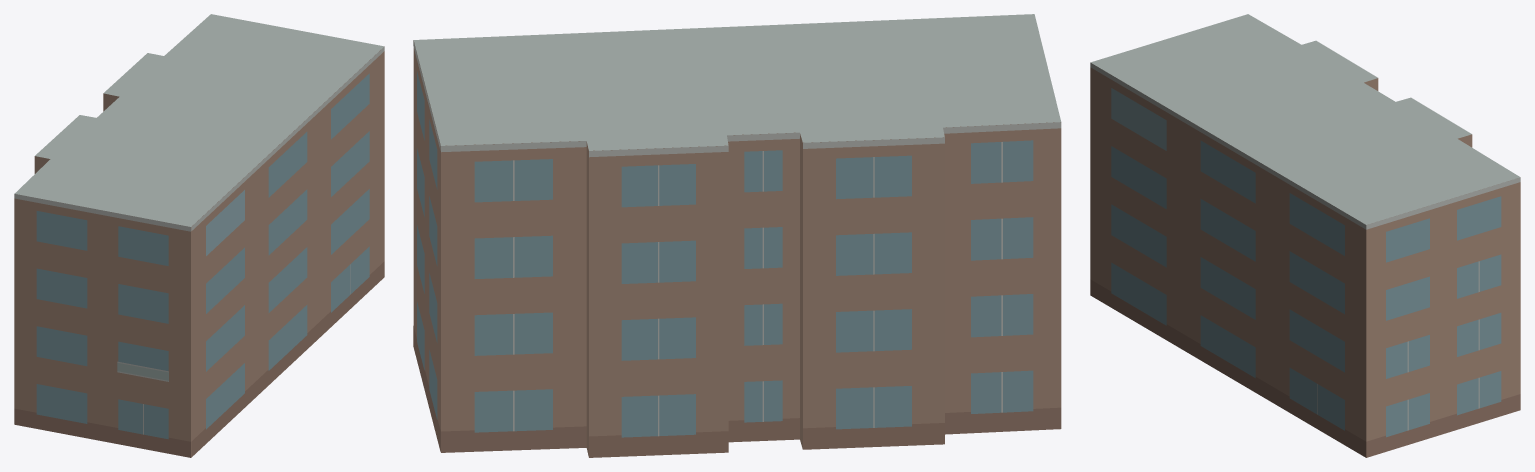
File: survey-upis-32665170.glb
The picture shows the model from 3 angles, left to right: view 1: azimuth 30°, elevation 25°; view 2: azimuth 150°, elevation 25°; view 3: azimuth 270°, elevation 25°; orthographic projection. The views are drawn at different scales.
Visible parts, largest first — view 1: survey-upis-32665170.tmp; view 2: survey-upis-32665170.tmp; view 3: survey-upis-32665170.tmp.
Part boxes in pixels (bbox=[...]): survey-upis-32665170.tmp: bbox=[14, 14, 384, 457]; survey-upis-32665170.tmp: bbox=[413, 14, 1061, 457]; survey-upis-32665170.tmp: bbox=[1090, 14, 1520, 457].
Size of the model in its own units: 23.32 by 12 by 20.11.
